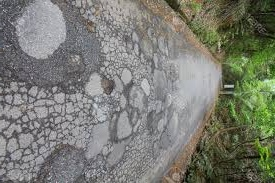pothole: (62, 49, 85, 79), (101, 73, 118, 100), (131, 42, 145, 55)
